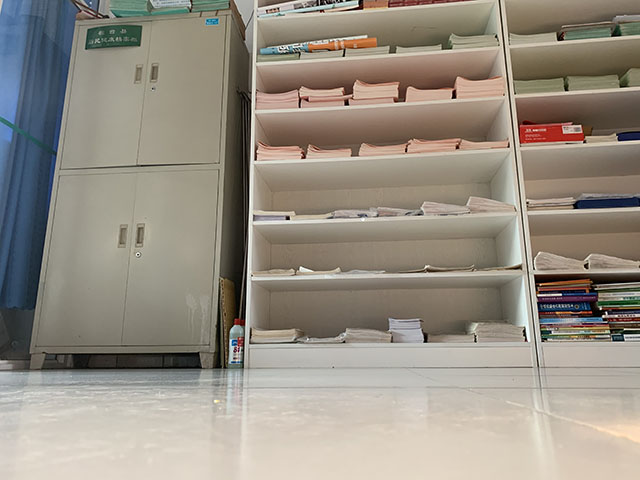cabinet: (243, 1, 639, 370), (27, 8, 252, 371)
